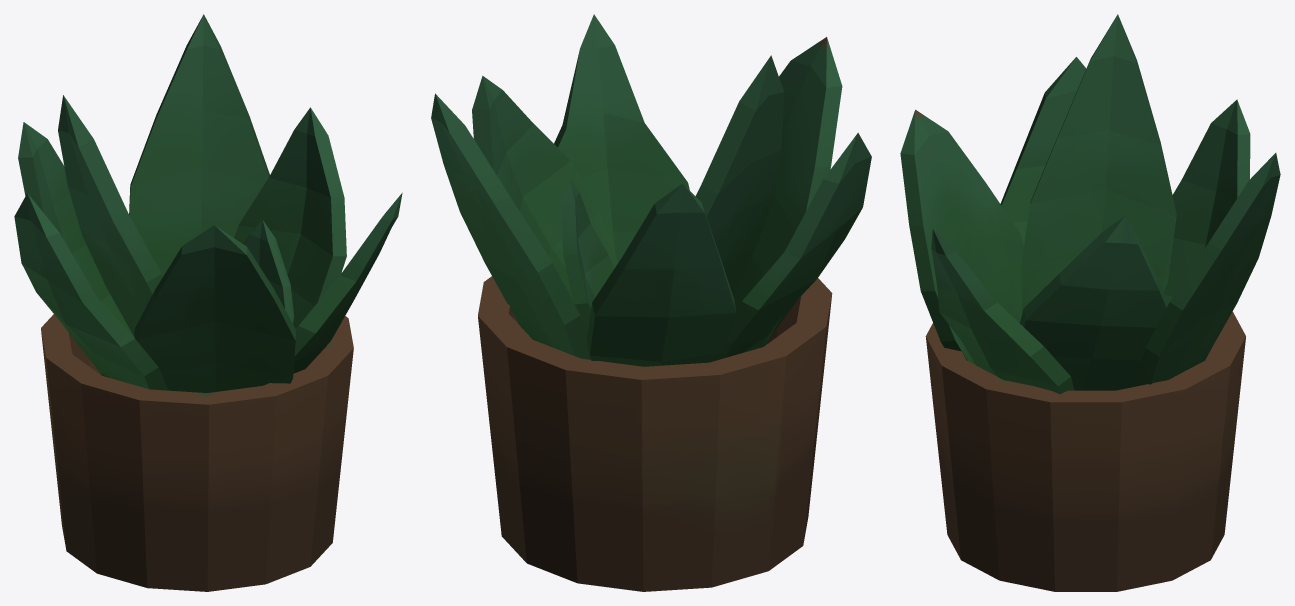
Rendered from Plant.fbx.
3 renders of one model, left to right at view 1: azimuth 30°, elevation 25°; view 2: azimuth 150°, elevation 25°; view 3: azimuth 270°, elevation 25°, orthographic. The views are drawn at different scales.
Parts seen in each view (by area): view 1: Planta; view 2: Planta; view 3: Planta.
Boxes of the visible parts, left/top/right/bottom form: Planta: left=14, top=14, right=402, bottom=591; Planta: left=431, top=14, right=871, bottom=591; Planta: left=900, top=14, right=1280, bottom=591.
Size of the model in its own units: 167 by 232 by 173.
